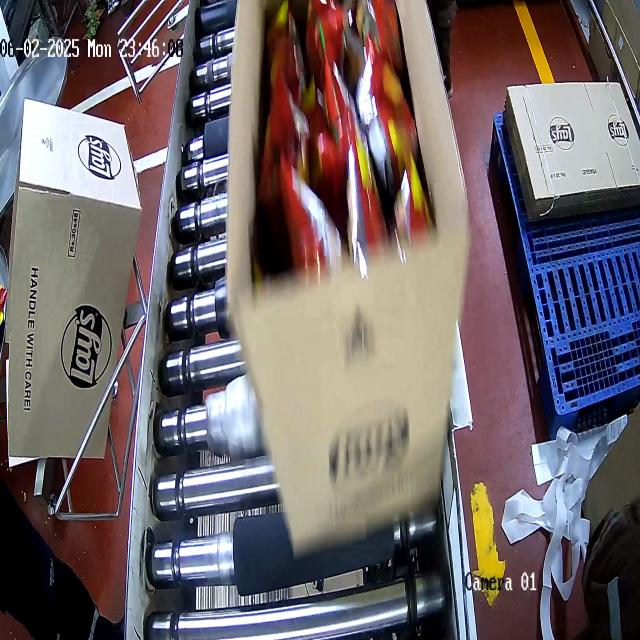MASALA: (247, 0, 413, 292)
